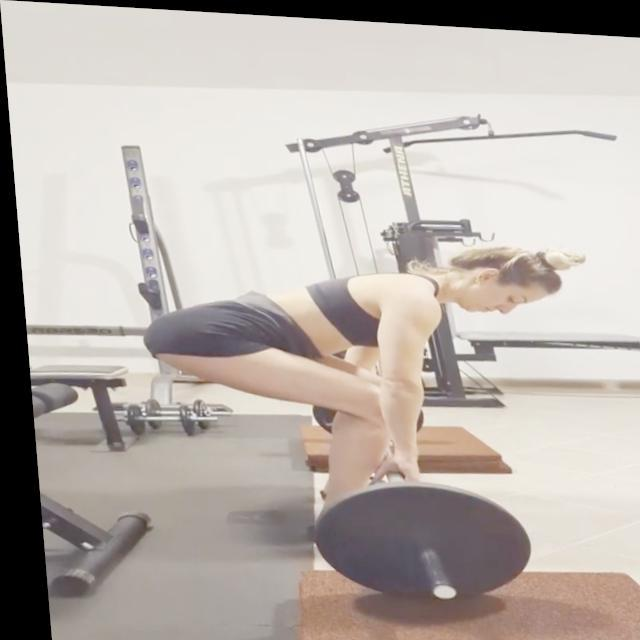barbell: (293, 467, 538, 614)
